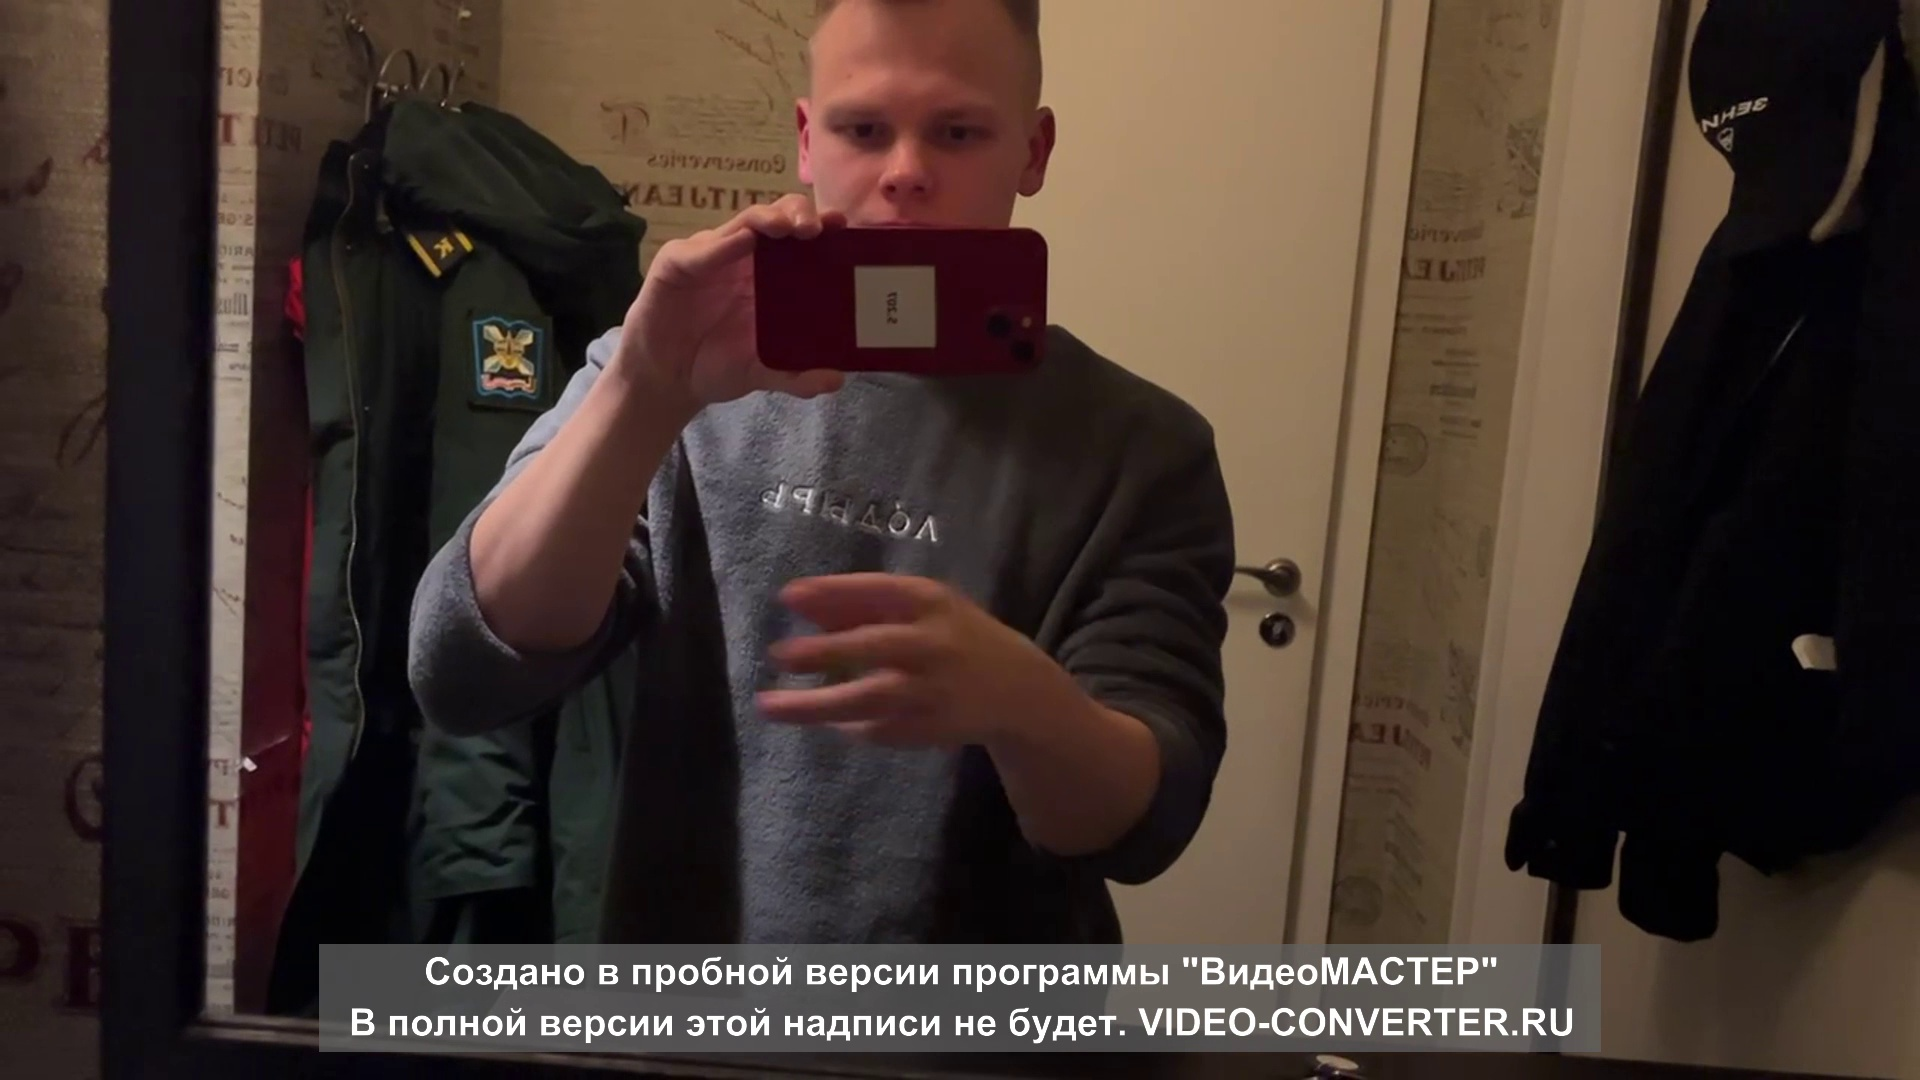Кисть: (753, 571, 1011, 749)
